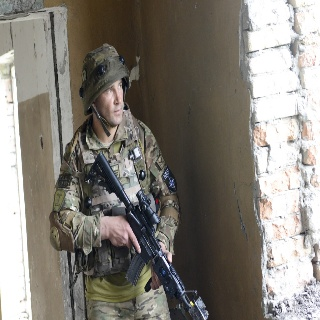rifle: (87, 150, 209, 320)
